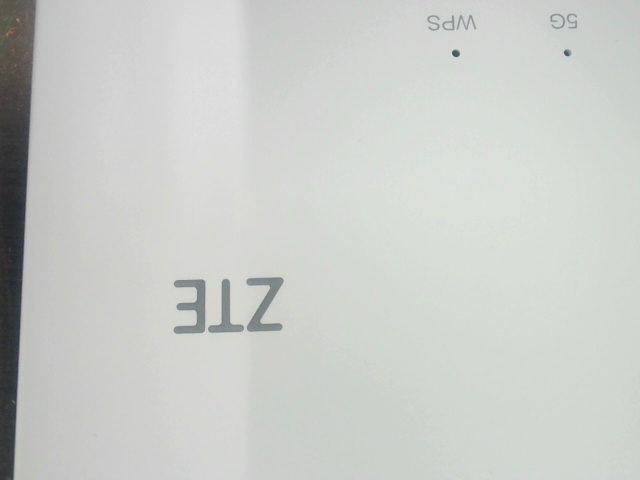AO_ZTESmall: (159, 260, 286, 344)
